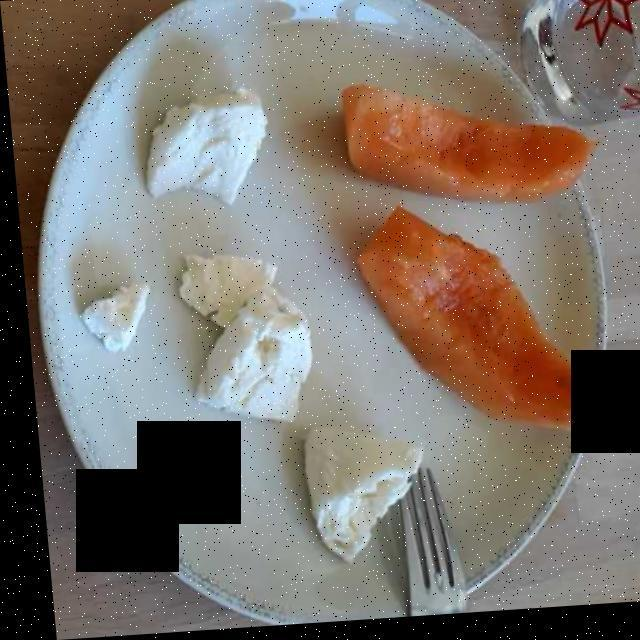cheese: (73, 82, 418, 552)
melon: (337, 96, 633, 464)
